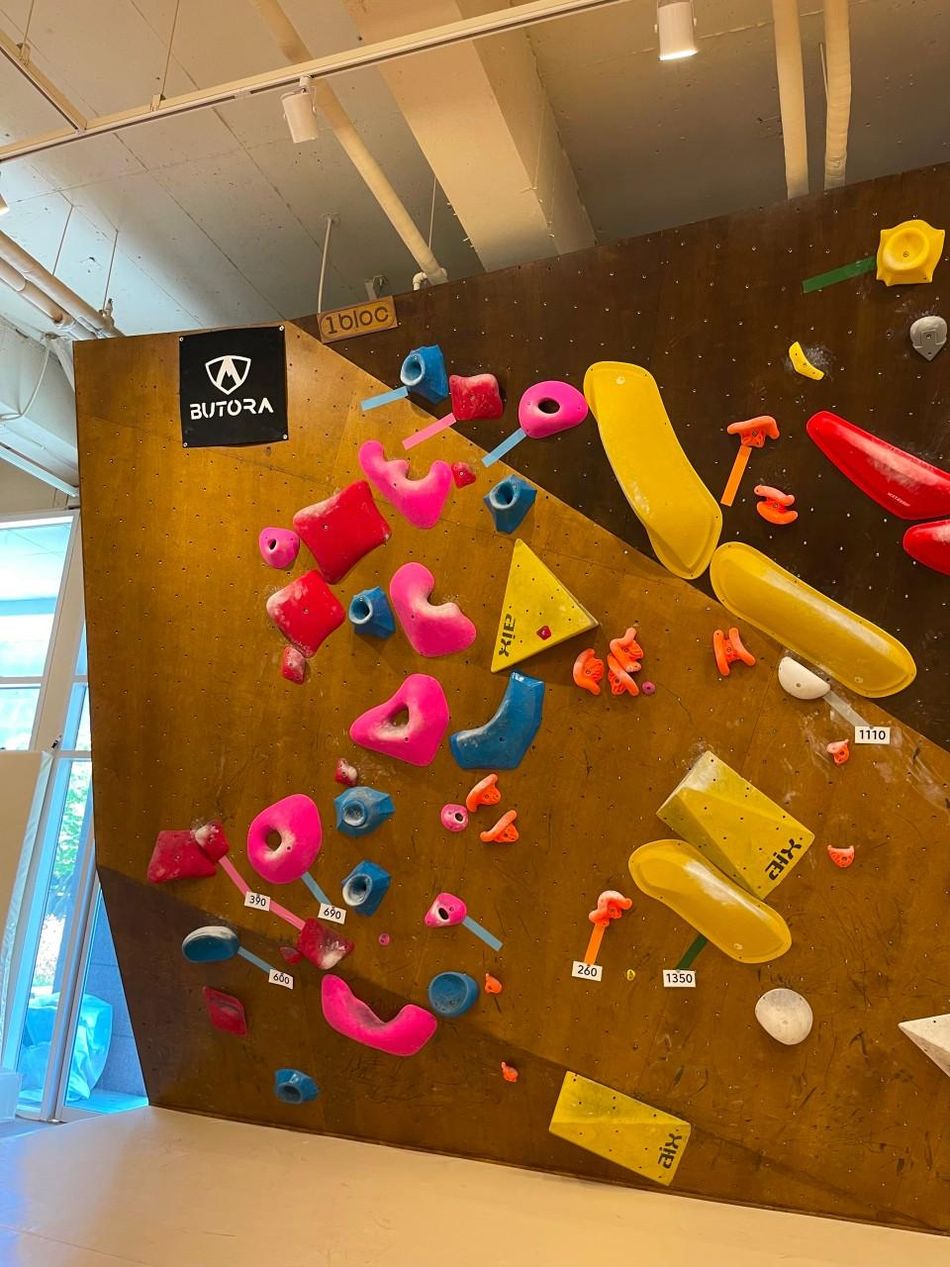hold: (705, 540, 919, 696), (584, 362, 721, 577), (629, 839, 792, 962), (808, 411, 949, 521), (294, 479, 390, 583), (450, 670, 543, 769), (349, 674, 449, 765), (322, 975, 435, 1055), (359, 440, 452, 528), (390, 562, 475, 656), (267, 569, 345, 656), (247, 794, 322, 883), (876, 219, 944, 286), (520, 381, 588, 439), (147, 830, 216, 883), (484, 475, 536, 534), (335, 787, 394, 837), (756, 990, 810, 1043), (297, 918, 352, 969), (341, 861, 390, 916), (400, 346, 447, 403), (902, 519, 949, 574), (449, 374, 503, 421), (347, 587, 395, 638), (428, 972, 479, 1017), (779, 656, 829, 700), (182, 925, 239, 962), (203, 986, 246, 1035), (713, 628, 754, 677), (588, 891, 633, 928), (259, 527, 299, 568), (727, 416, 779, 447), (273, 1068, 318, 1103), (191, 821, 229, 862), (755, 486, 796, 524), (910, 316, 946, 359), (573, 650, 604, 694), (611, 628, 643, 670), (466, 774, 501, 812), (426, 893, 466, 926), (789, 341, 822, 379), (480, 810, 519, 842), (609, 657, 637, 695), (281, 644, 307, 683), (440, 804, 468, 831), (451, 462, 476, 487), (335, 758, 357, 786), (827, 739, 849, 764), (828, 845, 852, 867), (280, 946, 302, 964), (484, 972, 502, 993), (502, 1061, 517, 1082), (536, 626, 550, 638), (642, 682, 654, 694), (379, 933, 390, 944), (625, 971, 635, 979)
volume: (656, 748, 816, 901), (549, 1069, 691, 1185), (489, 538, 603, 678), (900, 1014, 949, 1075)
